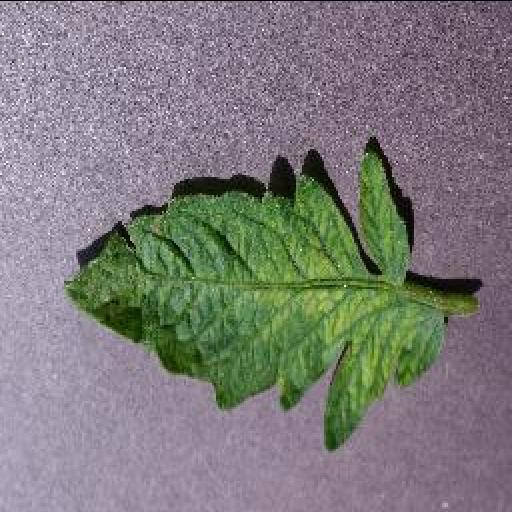Mosaic Virus: (60, 150, 452, 454)
